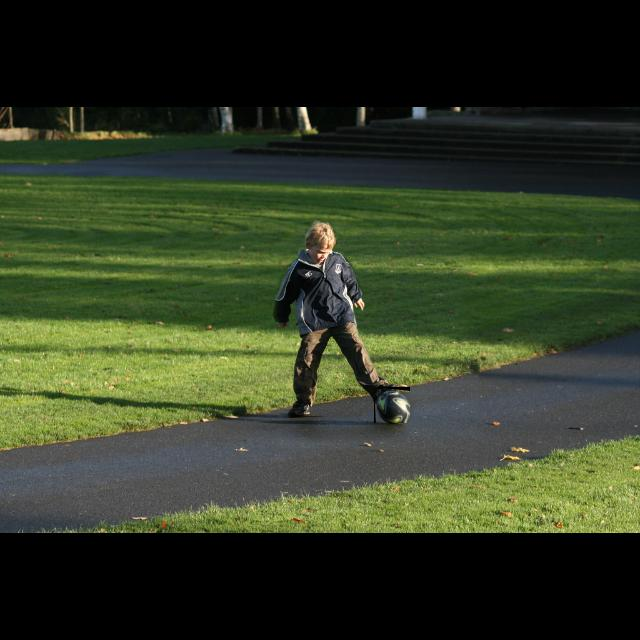Football: (374, 387, 410, 423)
